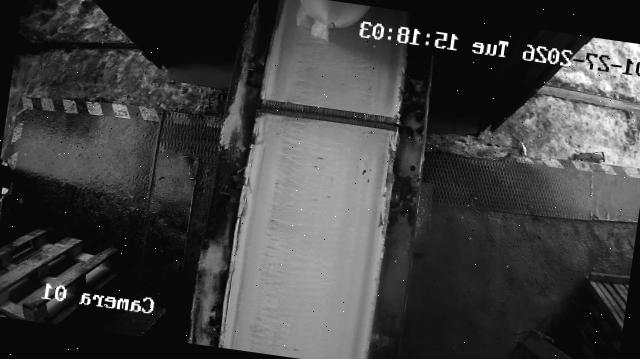bag: (290, 0, 373, 45)
